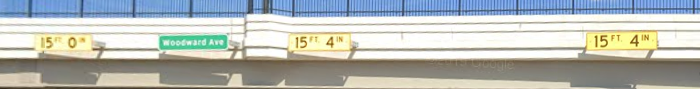0: (65, 34, 78, 51)
1: (591, 32, 600, 51), (38, 34, 46, 50), (292, 34, 299, 50)
4: (625, 29, 641, 51), (323, 33, 335, 52)
5: (598, 31, 610, 52), (44, 35, 55, 52), (298, 34, 308, 52)
overheadsign: (584, 29, 659, 52), (285, 30, 352, 54), (34, 32, 94, 53)
